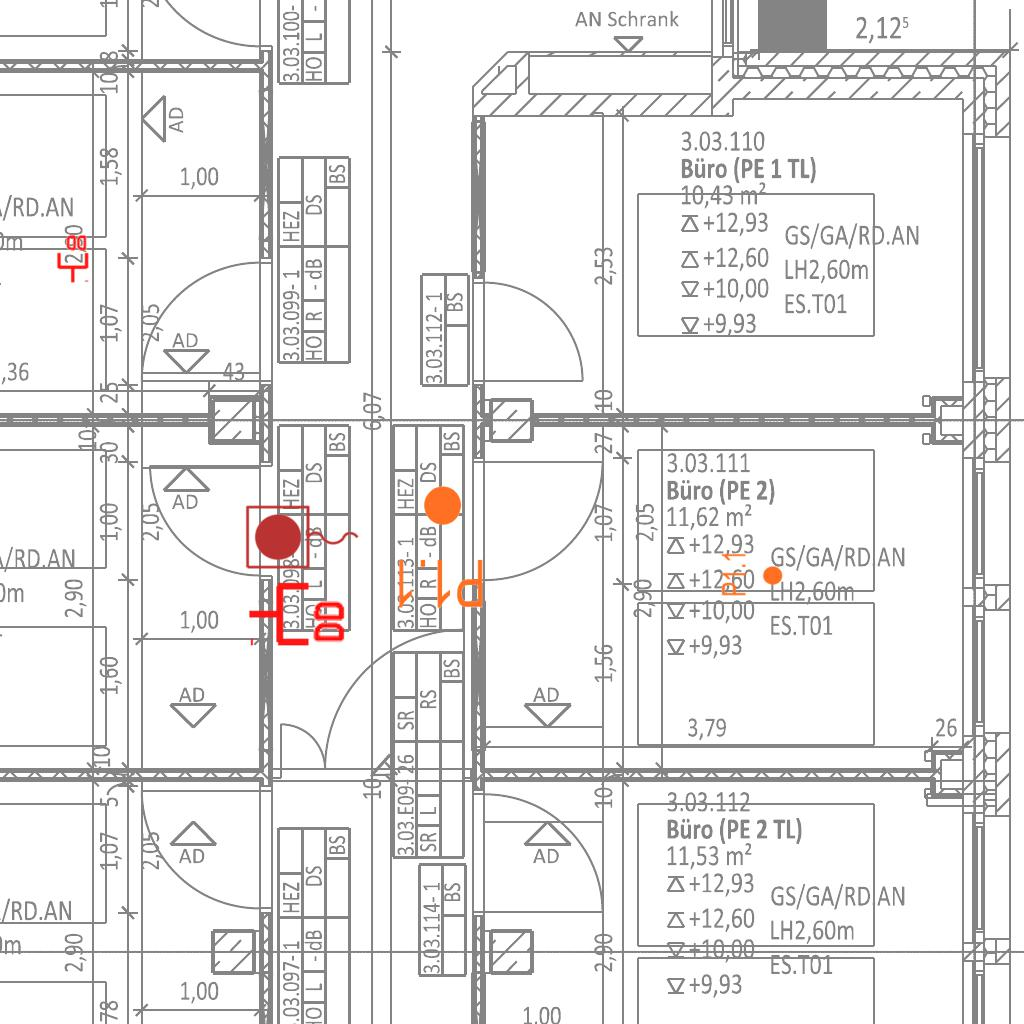Datenanschluss_zweifach: (246, 578, 349, 647), (55, 233, 89, 284)
Downlight_LED_Einbauleuchten_Flur: (393, 483, 486, 611), (720, 551, 784, 597)
Zugtaster: (242, 502, 364, 574)
